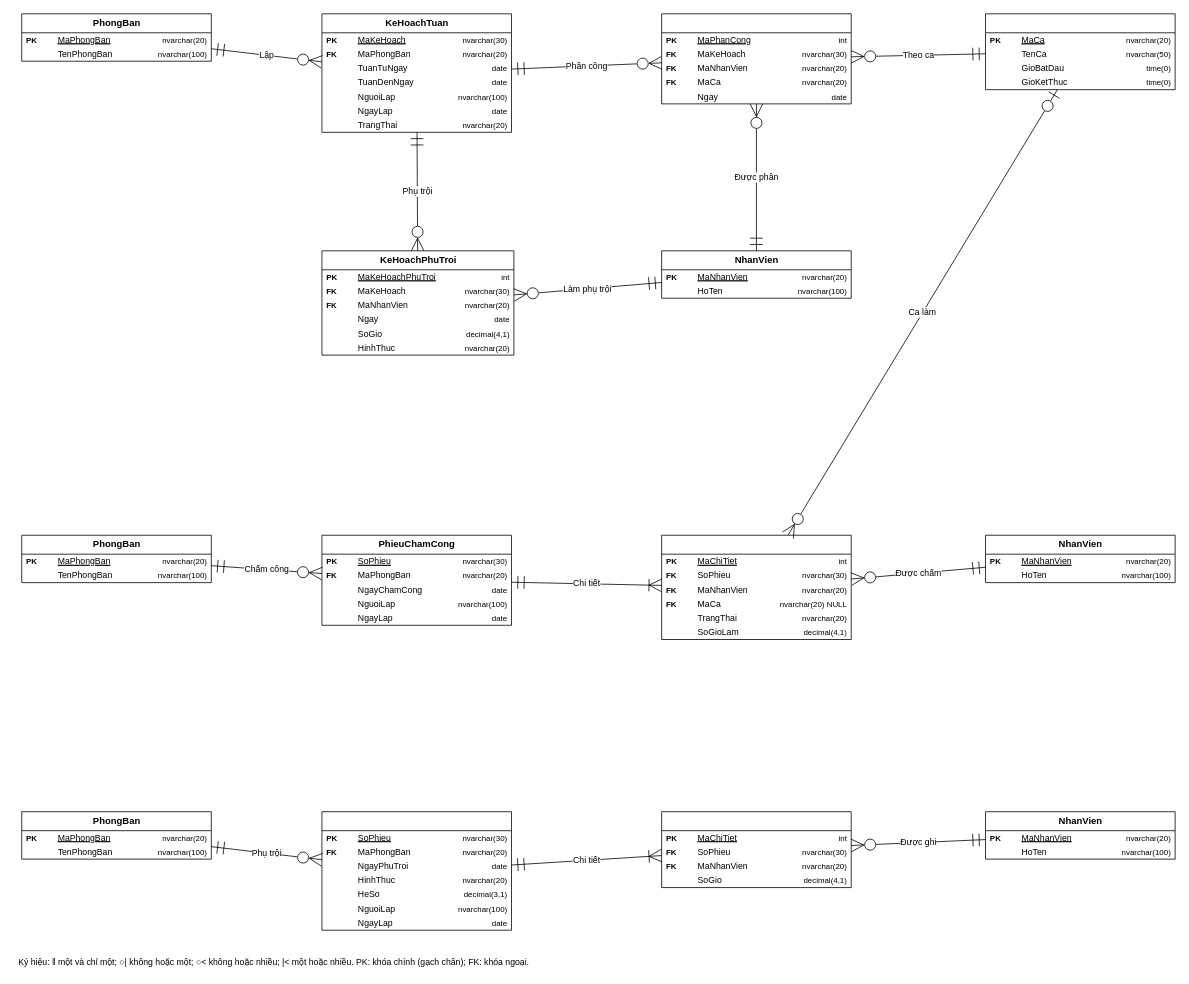
The diagram is 1189 pixels wide and 984 high, and some of its shapes have lost their labels. Each missing label, with the box of its shape:
CaLamViec: (985, 13, 1175, 90)
ChiTietChamCong: (661, 534, 851, 640)
ChiTietPhuTroi: (661, 811, 851, 888)
PhanCongCa: (661, 13, 851, 104)
PhieuPhuTroi: (321, 811, 512, 930)
